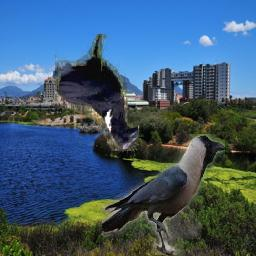Crow: (103, 135, 226, 256), (55, 35, 139, 152)
